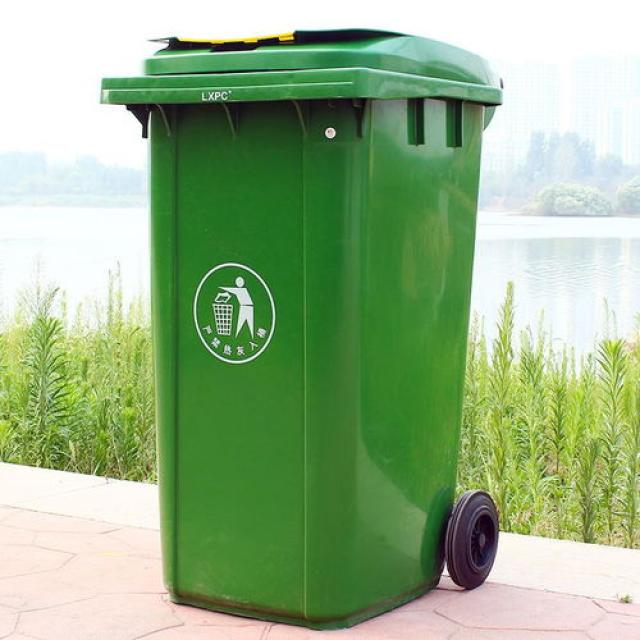garbage_bin: (97, 26, 503, 630)
